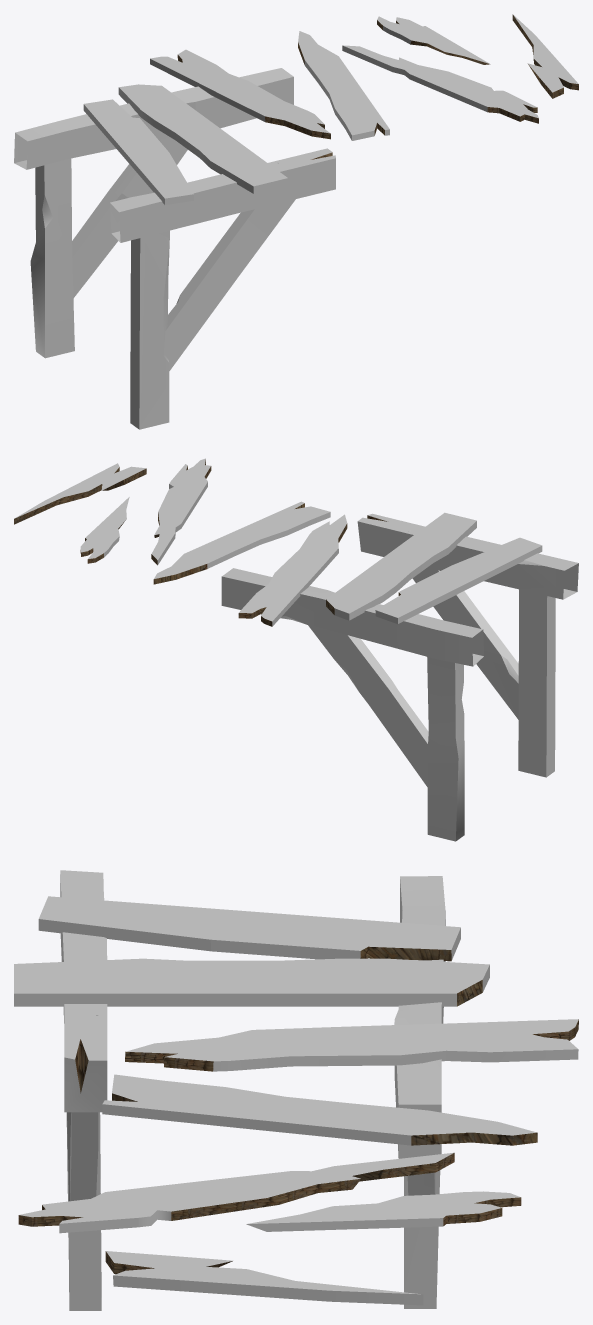
File: lower_city_levitating_platform_02.fbx
3 views of the same model, one above another, from view 1: azimuth 30°, elevation 25°; view 2: azimuth 150°, elevation 25°; view 3: azimuth 270°, elevation 25° (orthographic). The views are drawn at different scales.
Parts seen in each view (by area): view 1: platform, levitating_wood_4, levitating_wood_1, levitating_wood_5, levitating_wood_3, levitating_wood_2; view 2: platform, levitating_wood_4, levitating_wood_1, levitating_wood_5, levitating_wood_3, levitating_wood_2; view 3: platform, levitating_wood_4, levitating_wood_1, levitating_wood_5, levitating_wood_3, levitating_wood_2.
Part boxes in pixels (x1,y1,x2,y2): platform: [14, 68, 335, 429]; levitating_wood_4: [150, 49, 330, 139]; levitating_wood_1: [298, 31, 389, 140]; levitating_wood_5: [342, 45, 538, 123]; levitating_wood_3: [512, 14, 578, 98]; levitating_wood_2: [377, 16, 490, 64]; platform: [221, 512, 578, 841]; levitating_wood_4: [238, 514, 347, 626]; levitating_wood_1: [153, 501, 330, 584]; levitating_wood_5: [151, 458, 211, 565]; levitating_wood_3: [14, 463, 146, 524]; levitating_wood_2: [80, 497, 129, 563]; platform: [14, 870, 489, 1310]; levitating_wood_4: [125, 1019, 578, 1071]; levitating_wood_1: [102, 1074, 537, 1145]; levitating_wood_5: [18, 1152, 454, 1233]; levitating_wood_3: [105, 1251, 423, 1305]; levitating_wood_2: [246, 1191, 521, 1231].
Bounding box in the file's own units: 4.12 × 1.85 × 2.31.
